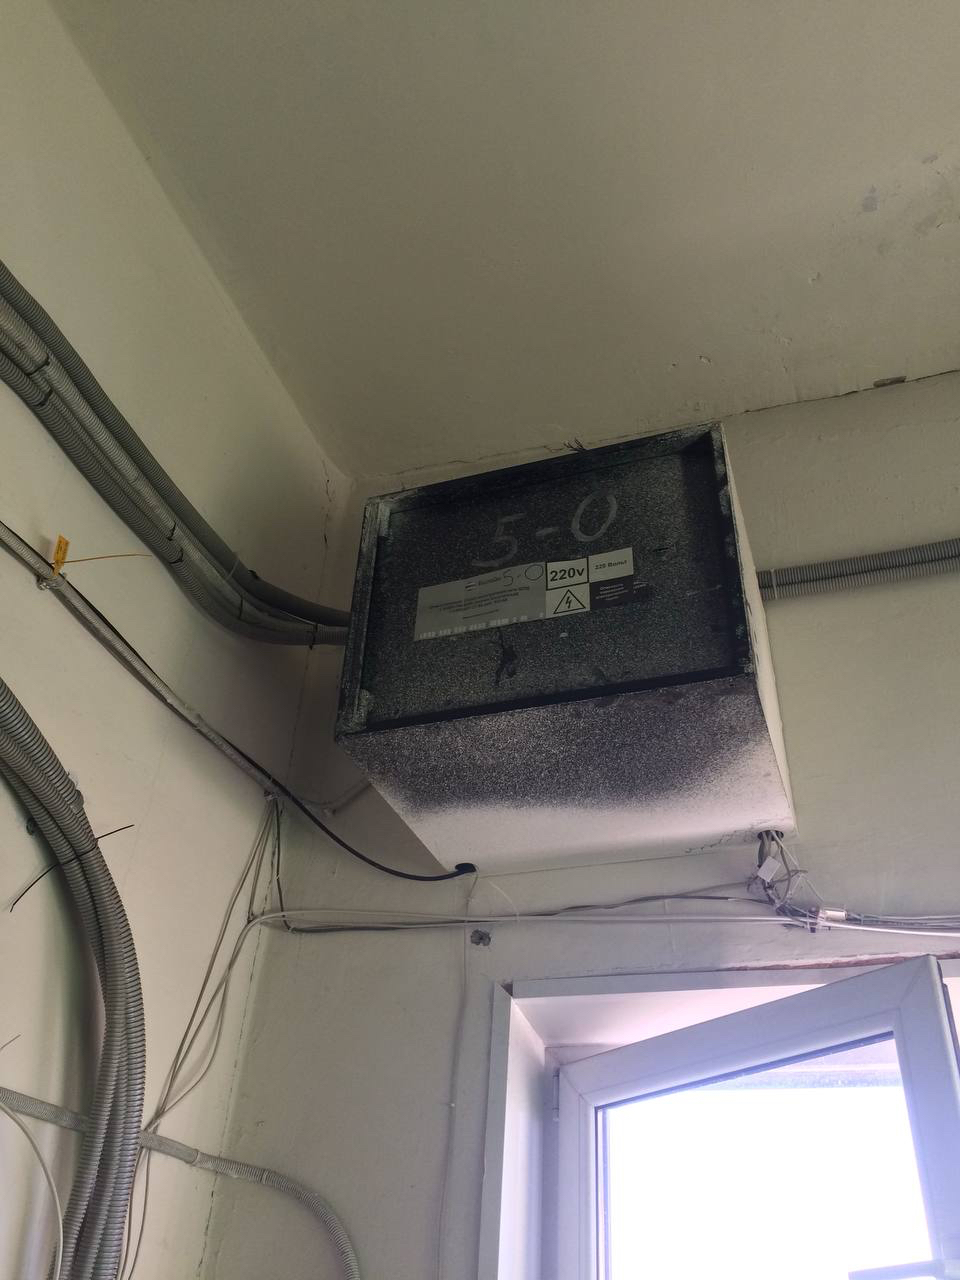shta-9m: (318, 407, 811, 882)
